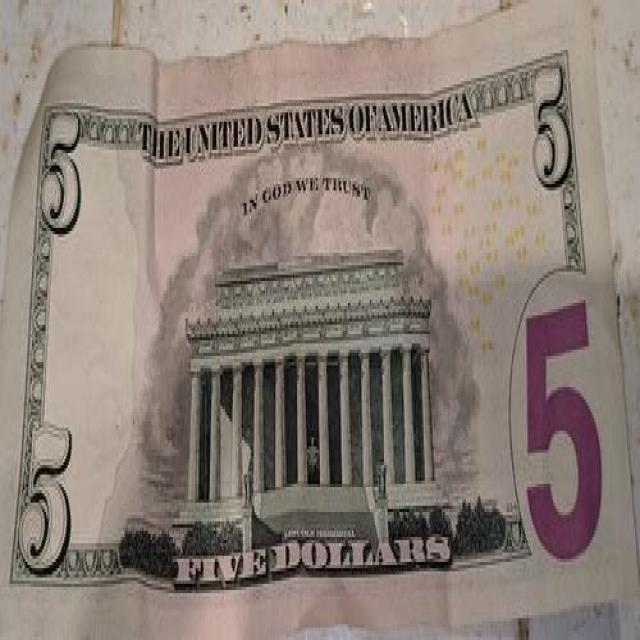5-Back: (0, 0, 639, 631)
